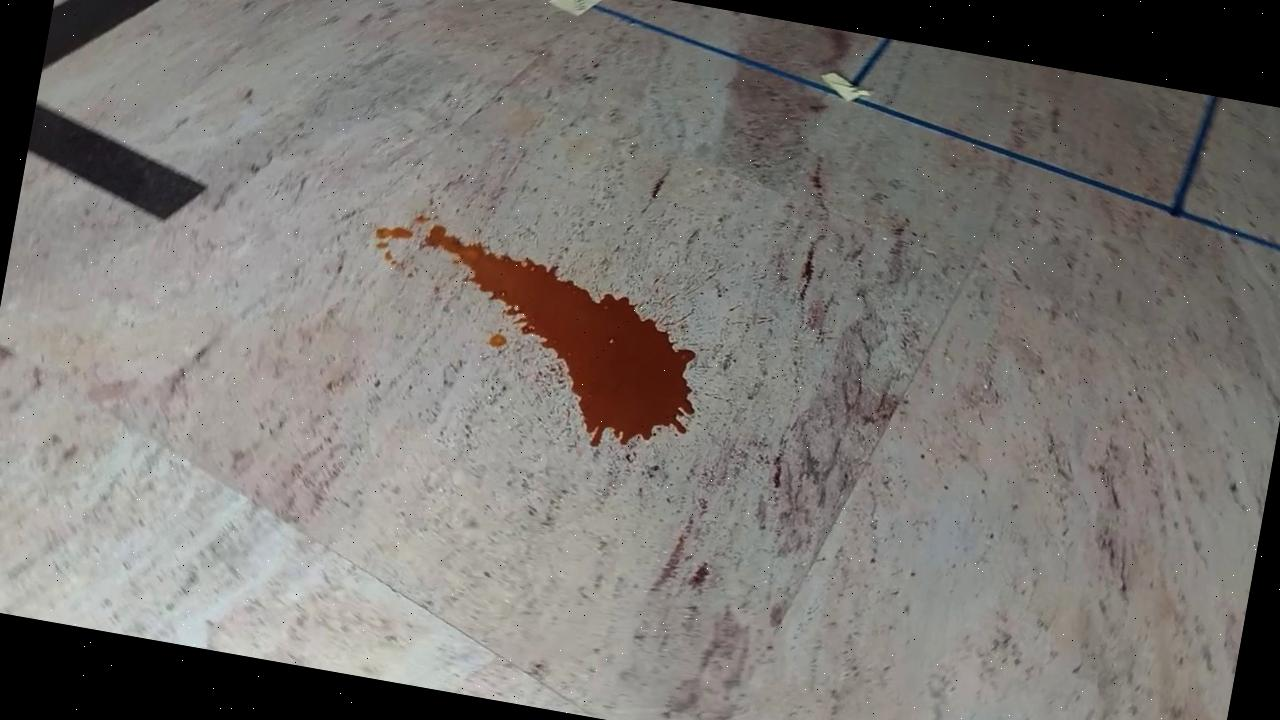dirty_floor: (328, 211, 717, 459)
